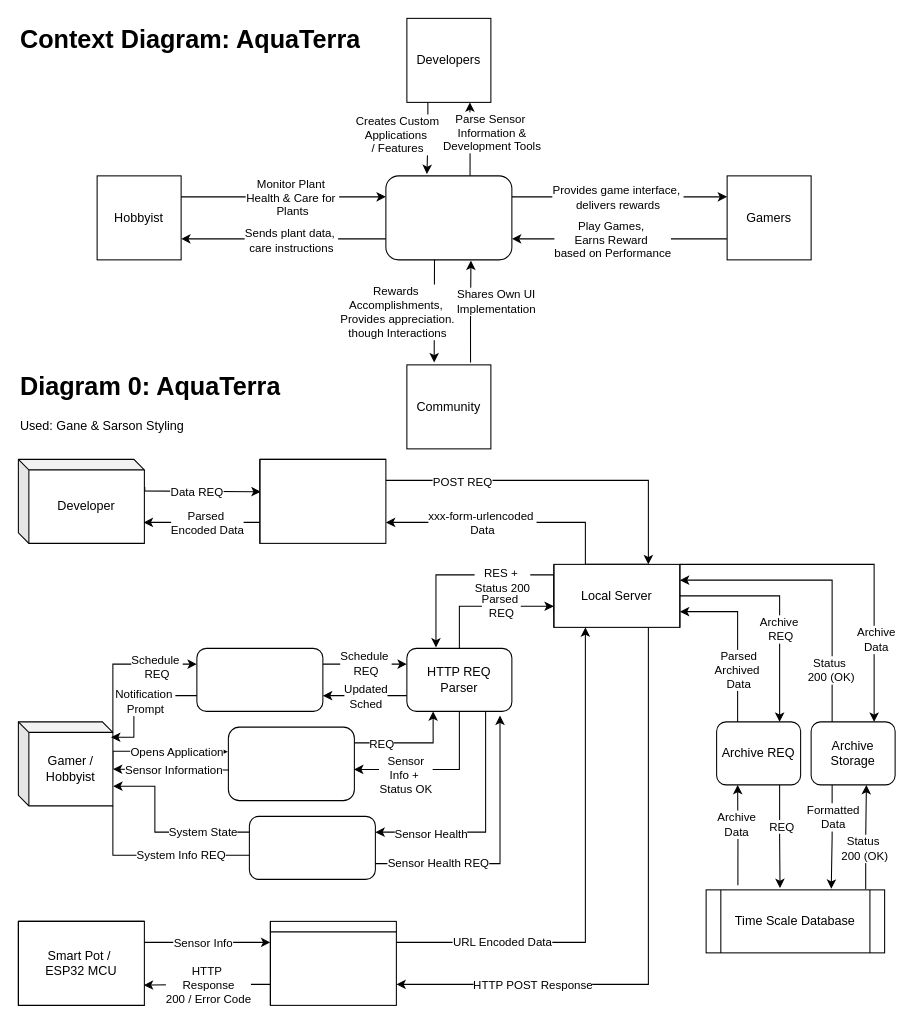
Some shapes in this 913 by 1025 pixel diagram are drawn without their labels. Here are the shapes that lost their labels. From the top down, the centre of each, then its label:
At (448,217): "AquaTerra Software".
At (322,500): "Request RAW Data".
At (259,679): "Scheduling".
At (290,763): "Main User Interface".
At (311,847): "Diagnosis / Calibration".
At (332,962): "URL Encoders".
